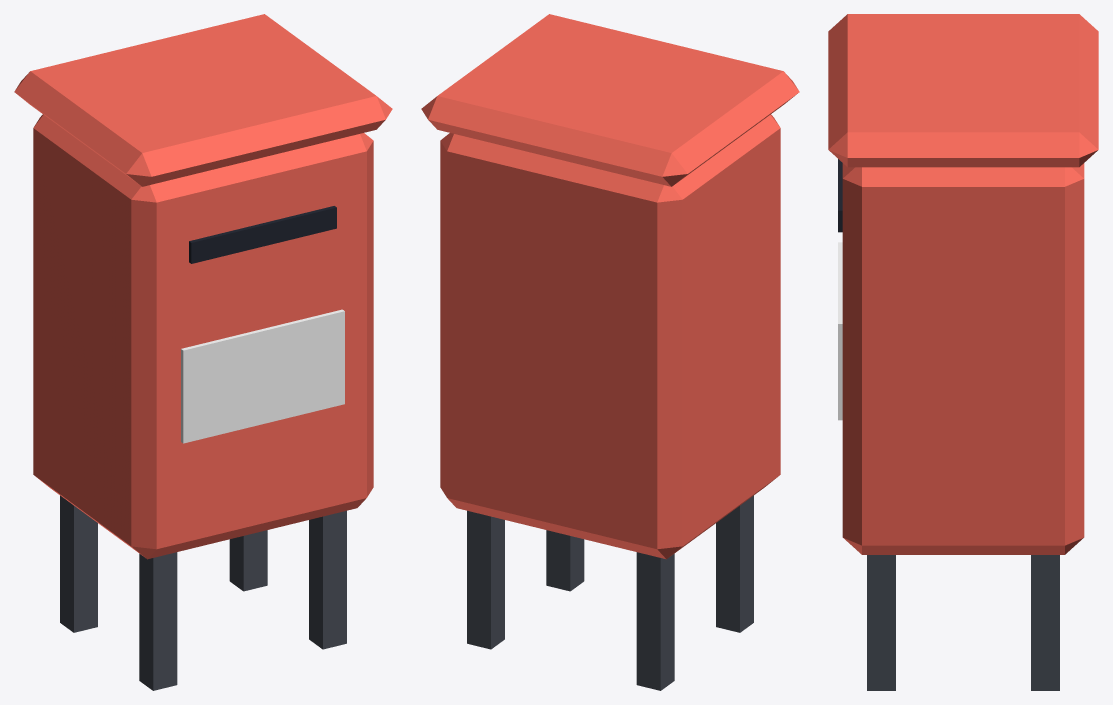
The model's file is mailbox.glb.
3 views of the same model, side by side, from view 1: azimuth 30°, elevation 25°; view 2: azimuth 150°, elevation 25°; view 3: azimuth 270°, elevation 25° (orthographic). The views are drawn at different scales.
Visible parts, largest first — view 1: mailbox; view 2: mailbox; view 3: mailbox.
Part boxes in pixels (<box>): mailbox: <box>14,14,392,690</box>; mailbox: <box>421,14,799,690</box>; mailbox: <box>828,14,1098,690</box>.
Bounding box in the file's own units: 0.66 × 1.3 × 0.56.
